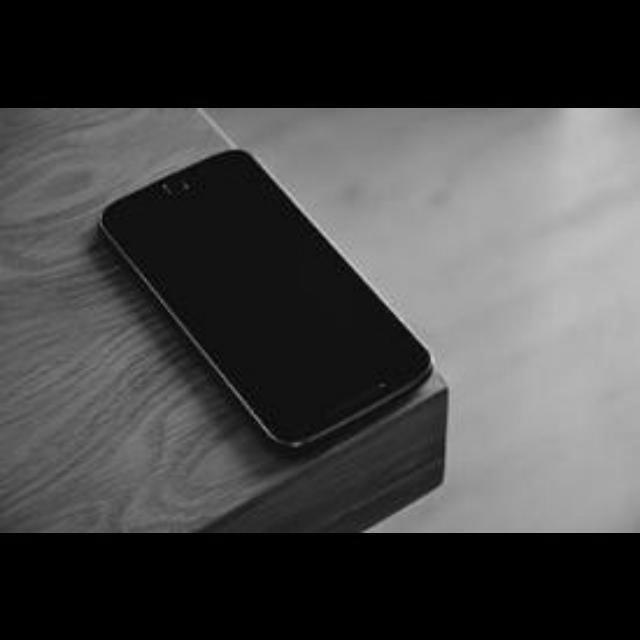fake: (88, 128, 482, 486)
